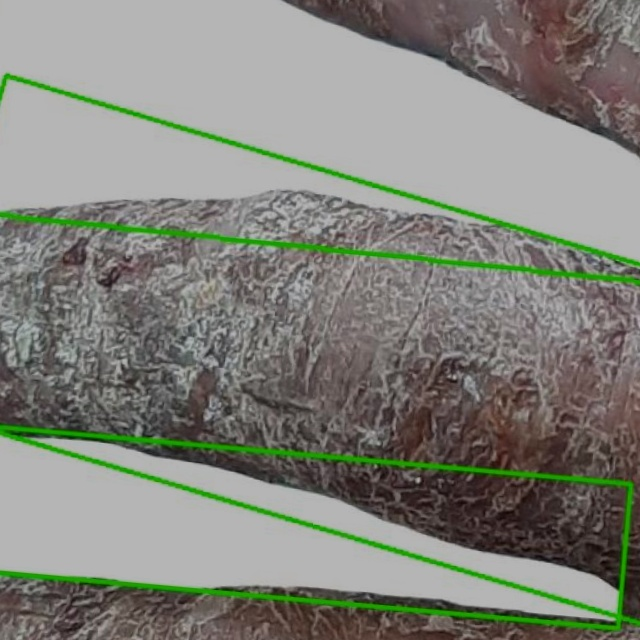Eczema: (0, 76, 639, 623), (0, 0, 639, 281), (0, 427, 630, 628)
